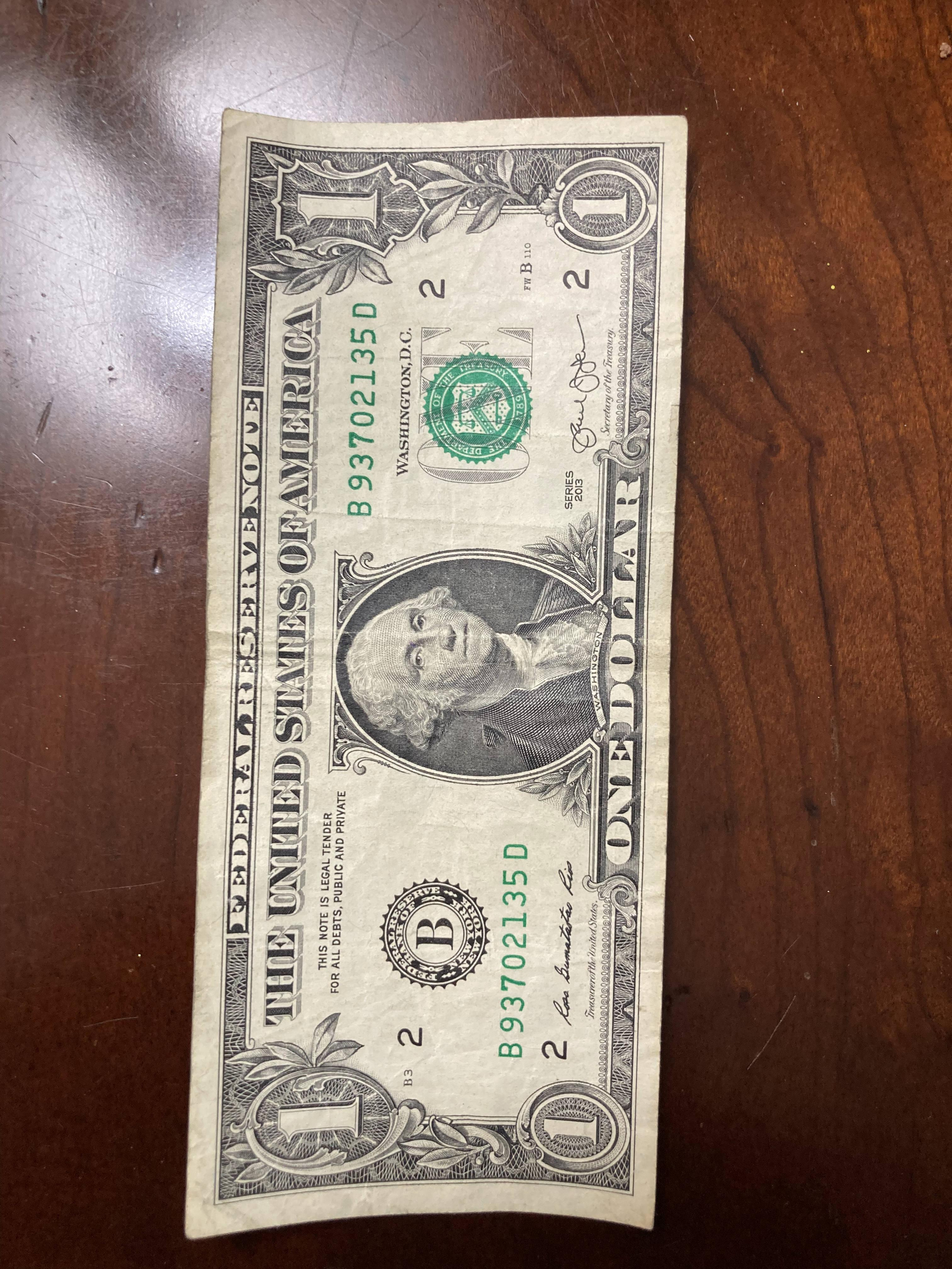one-front: (180, 114, 689, 1243)
